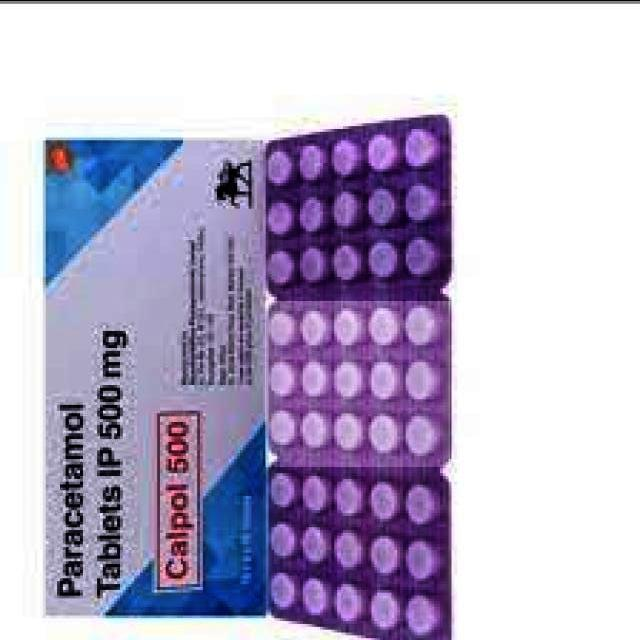authentic: (36, 135, 269, 622), (259, 106, 464, 300), (265, 288, 450, 466), (263, 465, 459, 624)
